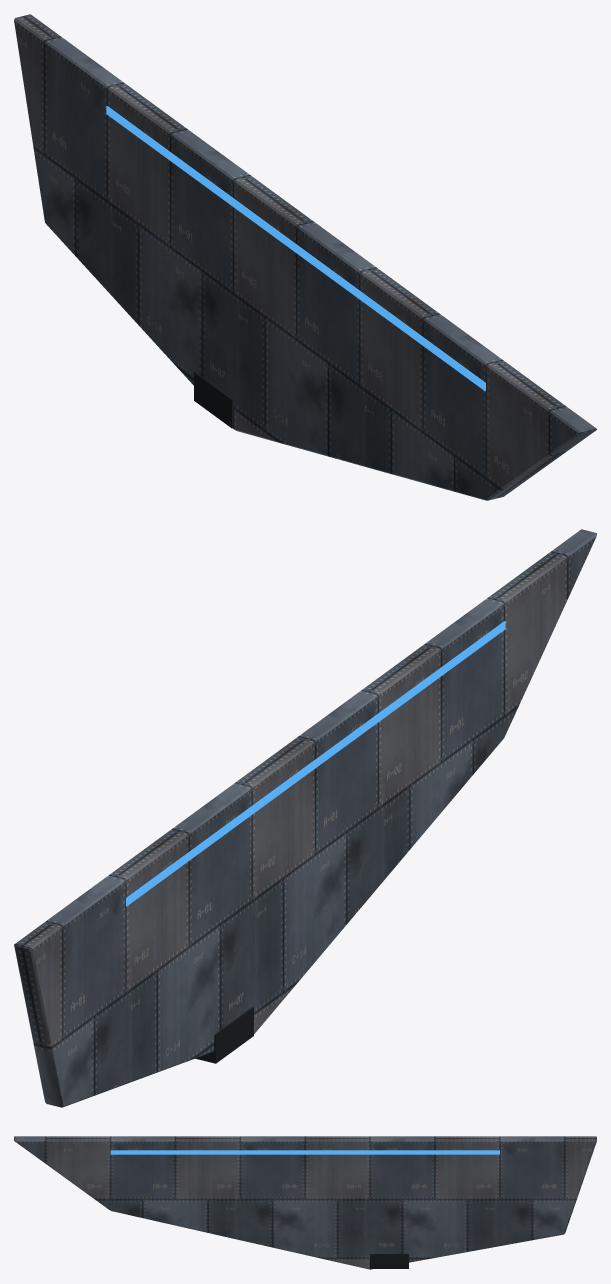
The model's file is arch_keel_fin.glb.
3 renders of one model, top to bottom at view 1: azimuth 30°, elevation 25°; view 2: azimuth 150°, elevation 25°; view 3: azimuth 270°, elevation 25°, orthographic. The views are drawn at different scales.
Visible parts, largest first — view 1: arch_keel_fin; view 2: arch_keel_fin; view 3: arch_keel_fin.
Boxes of the visible parts, <box> form: arch_keel_fin: <box>14,14,596,500</box>; arch_keel_fin: <box>14,529,596,1107</box>; arch_keel_fin: <box>14,1136,596,1269</box>.
Size of the model in its own units: 0.4 by 4.39 by 17.97.
Materials: 3 (1 with a texture image).
